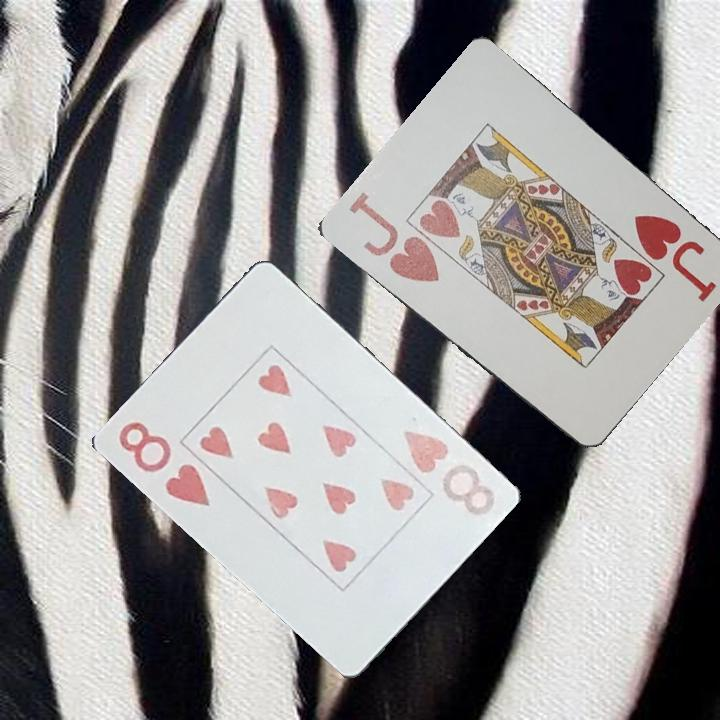8h: (114, 418, 214, 510), (399, 427, 498, 519)
Jh: (344, 188, 444, 286), (628, 211, 719, 301)
